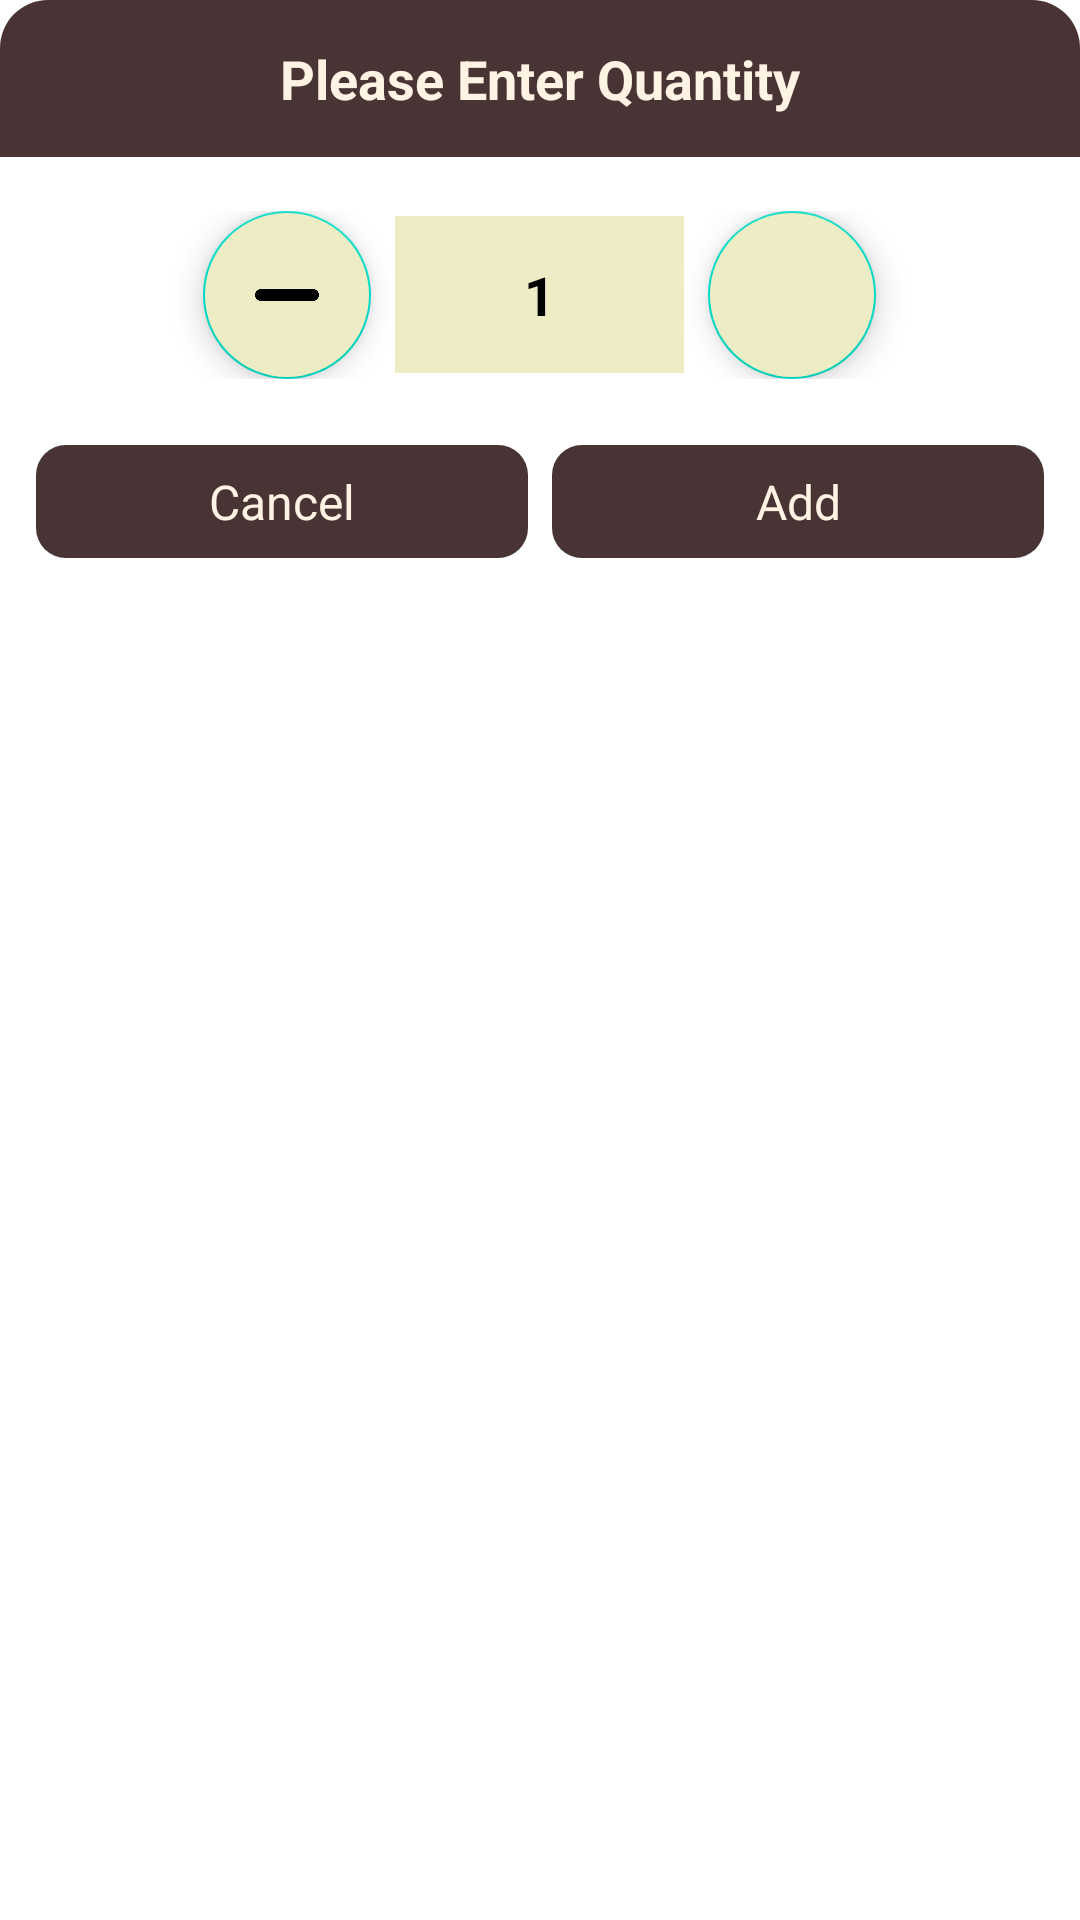

Named icons in this screenshot (1080×1920) and their bounding boxes, region(x1, y1, x2, y2):
minus: region(203, 211, 371, 379)
